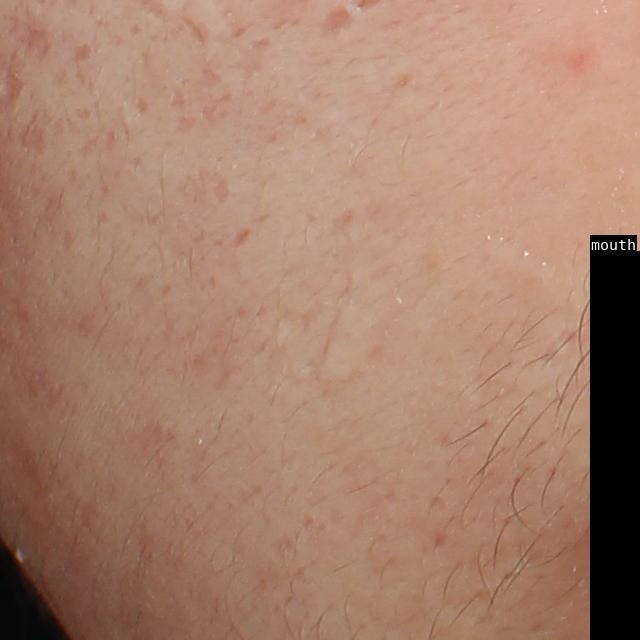atrophic_scar: (227, 36, 271, 93), (5, 13, 53, 63), (186, 57, 227, 93), (318, 5, 358, 36), (21, 114, 48, 154), (182, 17, 214, 50), (201, 89, 232, 119), (334, 206, 360, 236), (226, 225, 254, 252), (212, 175, 233, 204), (173, 114, 199, 135), (169, 87, 185, 111), (74, 44, 91, 62)
